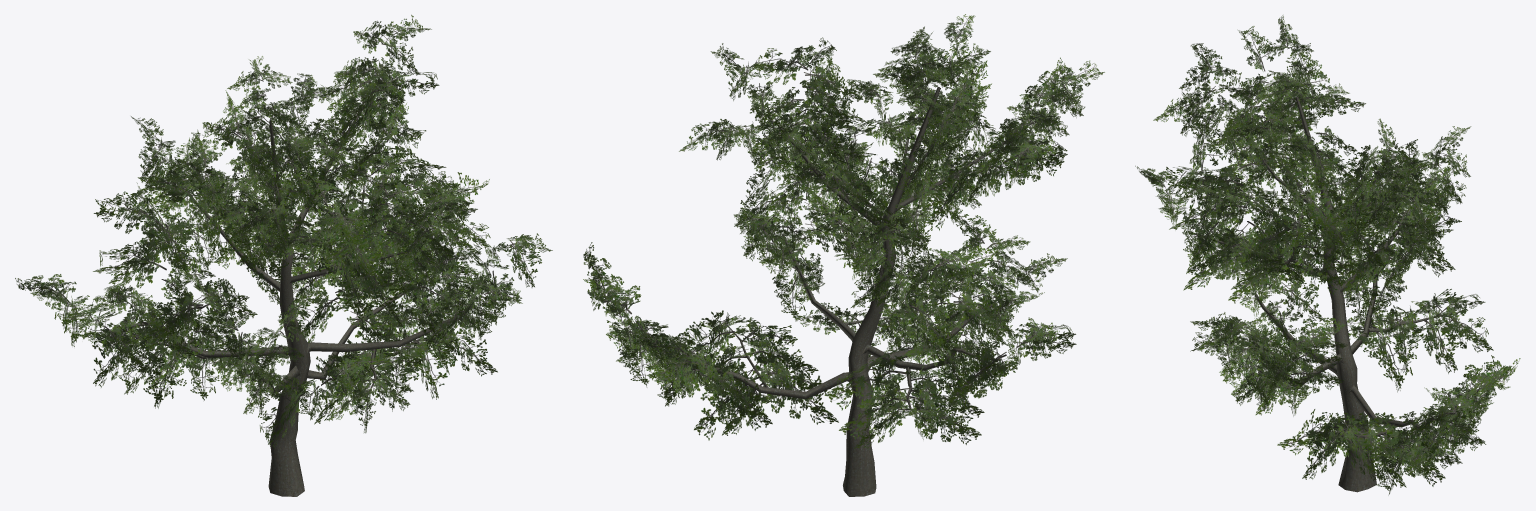
File: toak1.glb
3 views of the same model, side by side, from view 1: azimuth 30°, elevation 25°; view 2: azimuth 150°, elevation 25°; view 3: azimuth 270°, elevation 25° (orthographic). The views are drawn at different scales.
Parts seen in each view (by area): view 1: prefab; view 2: prefab; view 3: prefab.
Part boxes in pixels (left/top/right/bottom): prefab: left=15, top=14, right=552, bottom=496; prefab: left=583, top=14, right=1104, bottom=496; prefab: left=1135, top=15, right=1520, bottom=495.
Size of the model in its own units: 16.43 by 15.58 by 12.54.
Materials: 2 (2 with a texture image).
